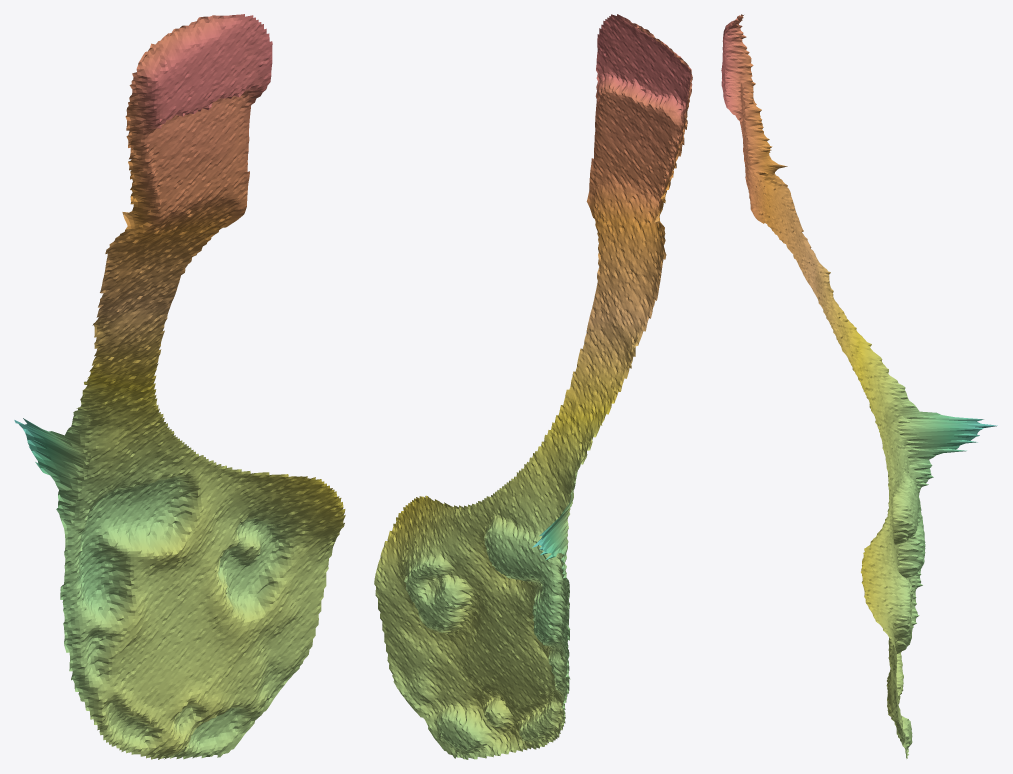
Rendered from lidar-terrain-demo.glb.
3 renders of one model, left to right at view 1: azimuth 30°, elevation 25°; view 2: azimuth 150°, elevation 25°; view 3: azimuth 270°, elevation 25°, orthographic. The views are drawn at different scales.
Visible parts, largest first — view 1: Pebble Hole 7 full-hole terrain exag4; view 2: Pebble Hole 7 full-hole terrain exag4; view 3: Pebble Hole 7 full-hole terrain exag4.
Boxes of the visible parts, x1,y1,x2,y2 form: Pebble Hole 7 full-hole terrain exag4: [14, 14, 345, 759]; Pebble Hole 7 full-hole terrain exag4: [374, 14, 692, 759]; Pebble Hole 7 full-hole terrain exag4: [721, 14, 997, 758].
Size of the model in its own units: 57.5 by 158 by 57.48.
